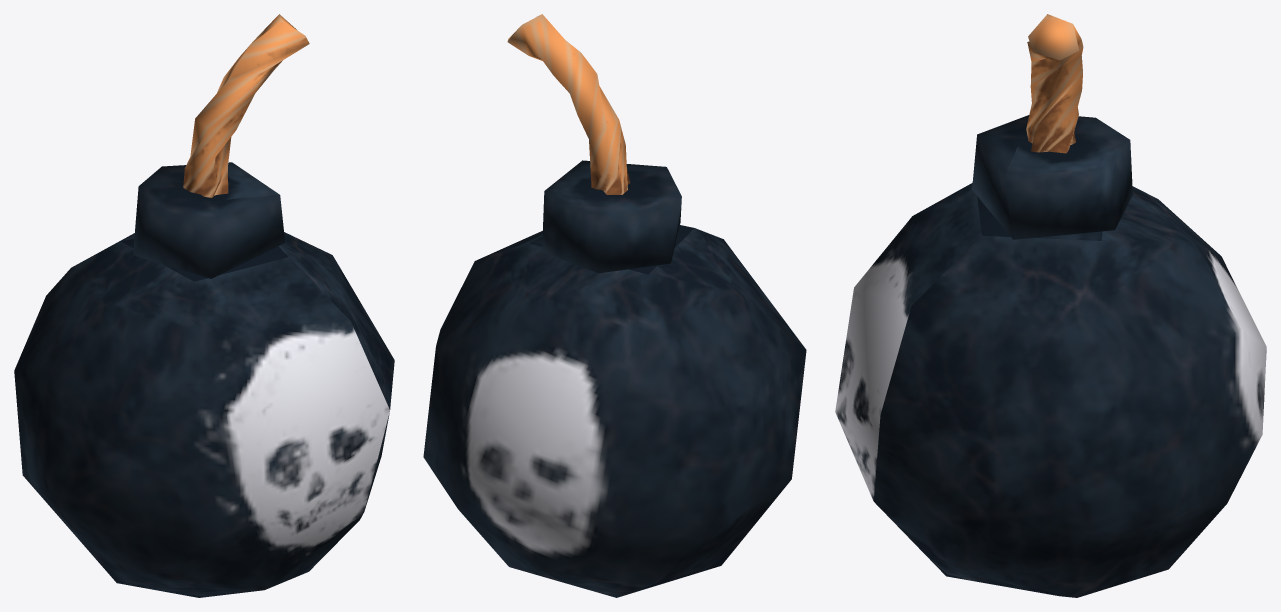
Rendered from bomb_low.fbx.
3 renders of one model, left to right at view 1: azimuth 30°, elevation 25°; view 2: azimuth 150°, elevation 25°; view 3: azimuth 270°, elevation 25°, orthographic. The views are drawn at different scales.
Parts seen in each view (by area): view 1: Circle.001; view 2: Circle.001; view 3: Circle.001.
Boxes of the visible parts, bbox=[...] form: Circle.001: bbox=[14, 14, 394, 597]; Circle.001: bbox=[423, 14, 806, 597]; Circle.001: bbox=[835, 14, 1266, 597].
Bounding box in the file's own units: 201 × 311 × 197.
1 material, 1 textured.
